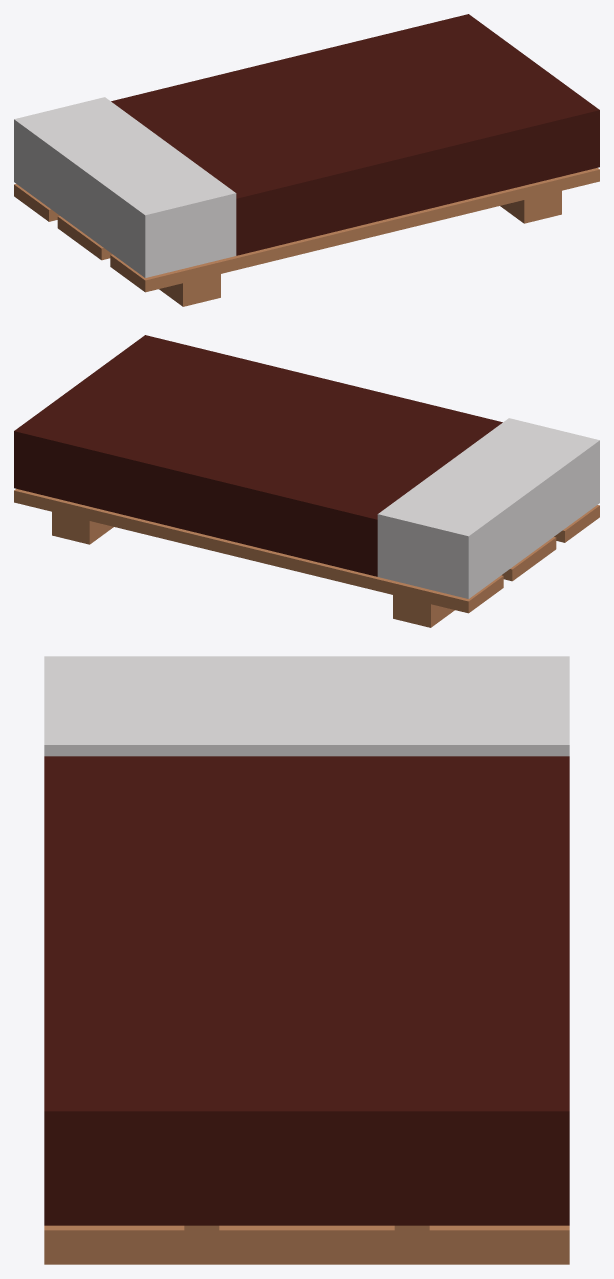
File: Bed.fbx
3 renders of one model, top to bottom at view 1: azimuth 30°, elevation 25°; view 2: azimuth 150°, elevation 25°; view 3: azimuth 270°, elevation 25°, orthographic. The views are drawn at different scales.
Parts seen in each view (by area): view 1: block (×2), platform_woodHalf; view 2: block (×2), platform_woodHalf; view 3: block (×2), platform_woodHalf.
Part boxes in pixels (x1,y1,x2,y2): block (×2): (14, 14, 599, 277); platform_woodHalf: (14, 168, 599, 306); block (×2): (14, 335, 599, 598); platform_woodHalf: (14, 489, 599, 627); block (×2): (44, 656, 569, 1225); platform_woodHalf: (44, 1225, 569, 1264).
Bounding box in the file's own units: 10 × 2.12 × 5.
